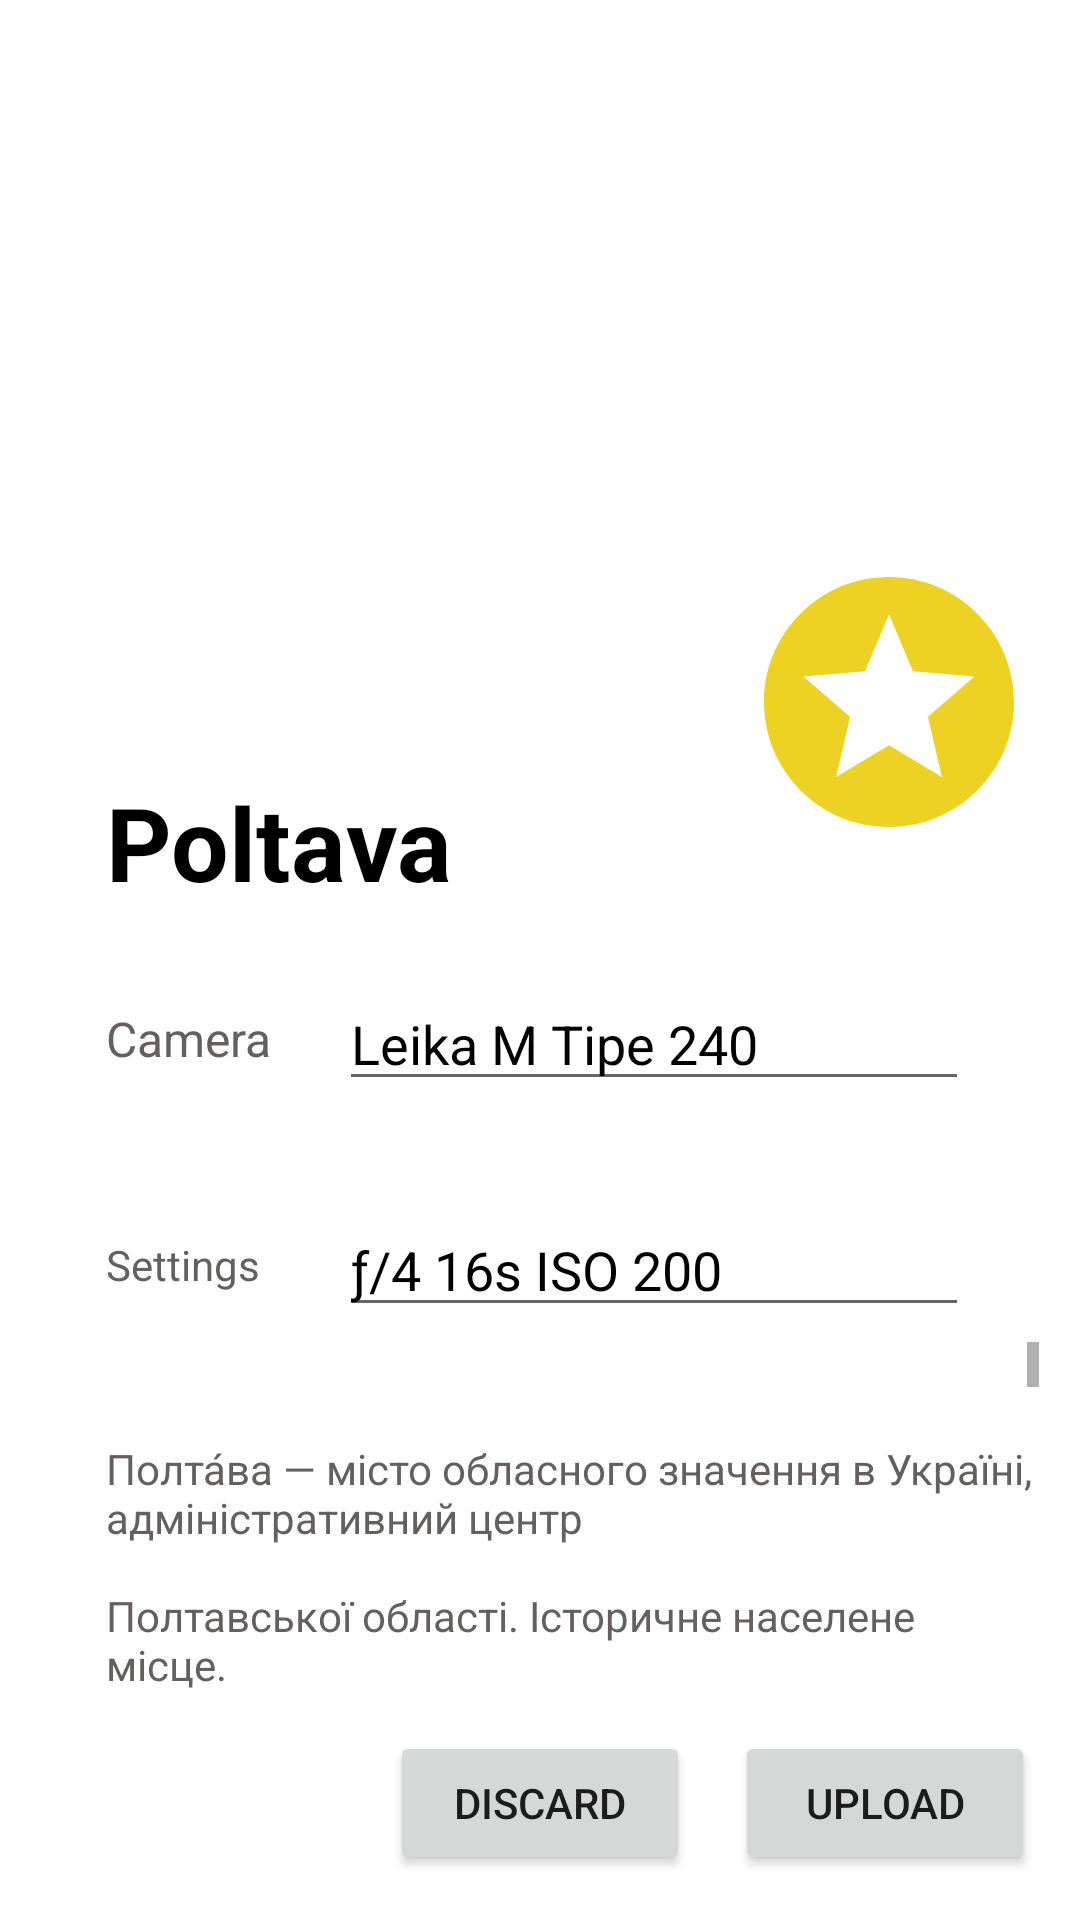

Named icons in this screenshot (1080w x 1920h) and their bounding boxes, box=[x1, y1, x2, y2]:
stars: box=[764, 577, 1014, 827]
